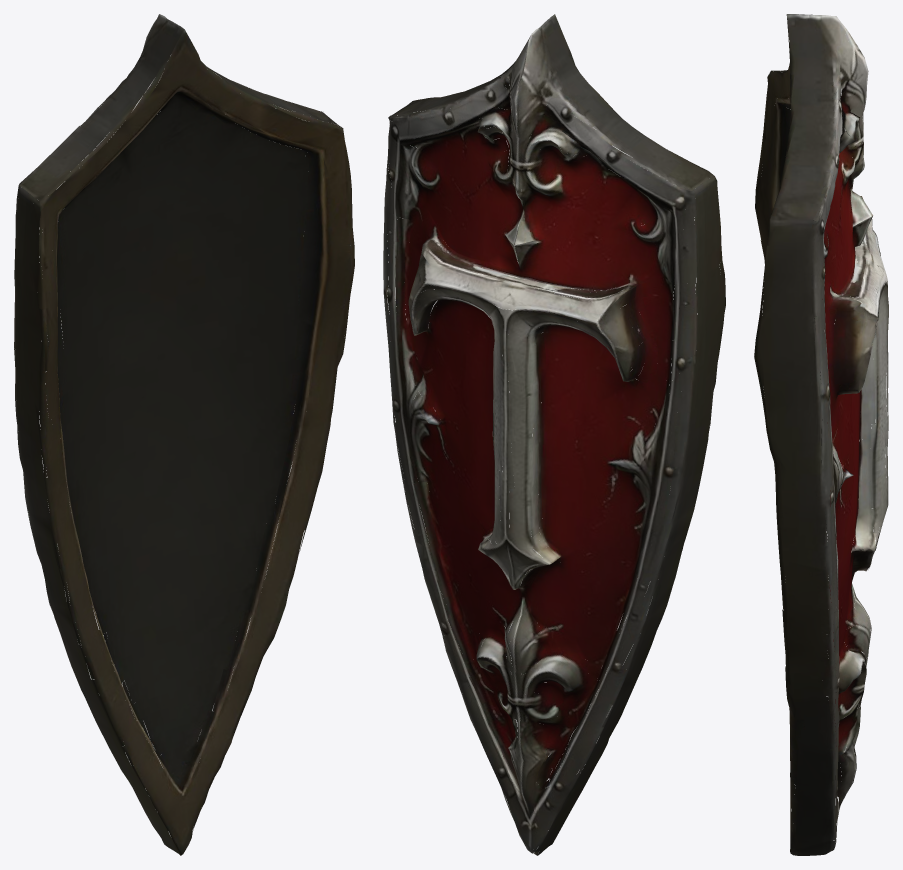
File: kite_t_red.glb
3 views of the same model, side by side, from view 1: azimuth 30°, elevation 25°; view 2: azimuth 150°, elevation 25°; view 3: azimuth 270°, elevation 25° (orthographic).
Visible parts, largest first — view 1: kite_t_red; view 2: kite_t_red; view 3: kite_t_red.
Boxes of the visible parts, box(x1,y1,x2,y2) form: kite_t_red: box(14, 14, 354, 855); kite_t_red: box(383, 14, 725, 855); kite_t_red: box(754, 14, 888, 855).
Size of the model in its own units: 0.3613 by 0.9135 by 0.1324.
Materials: 1 (1 with a texture image).
